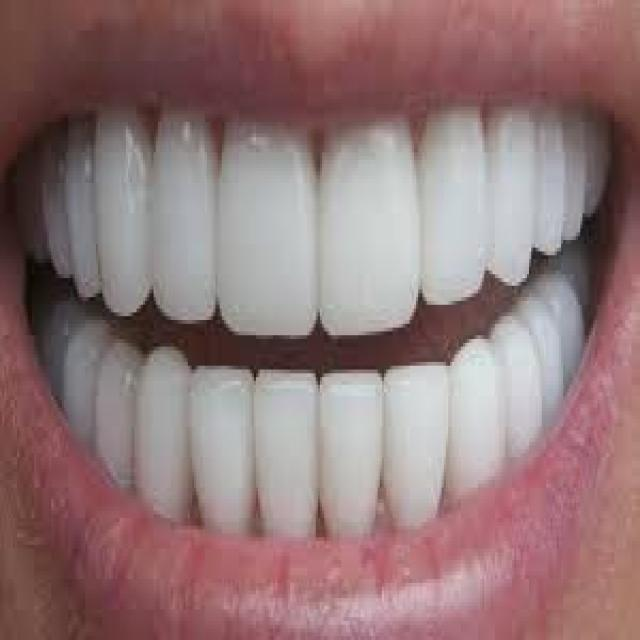tooth: (232, 110, 318, 332), (331, 118, 418, 332), (154, 118, 216, 328), (96, 110, 149, 324), (427, 107, 486, 297), (382, 362, 450, 522), (322, 370, 384, 537), (256, 374, 314, 530), (198, 354, 250, 518), (450, 335, 504, 480), (490, 110, 536, 274), (492, 308, 538, 454), (149, 336, 192, 492), (529, 282, 580, 411), (64, 137, 94, 282), (105, 339, 130, 488), (538, 110, 563, 248), (43, 133, 66, 267), (70, 316, 94, 442), (563, 118, 580, 259)
